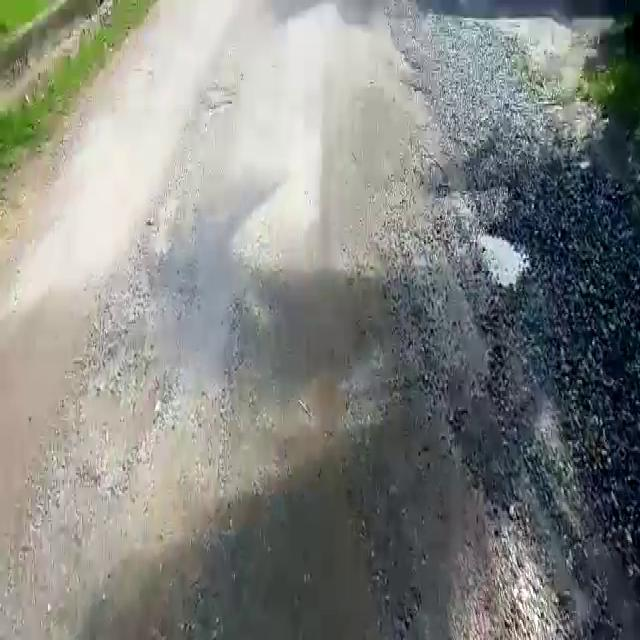Pothole: (479, 227, 534, 289)
